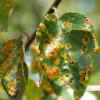Apple rust leaf: (35, 9, 96, 91), (0, 36, 30, 99)
